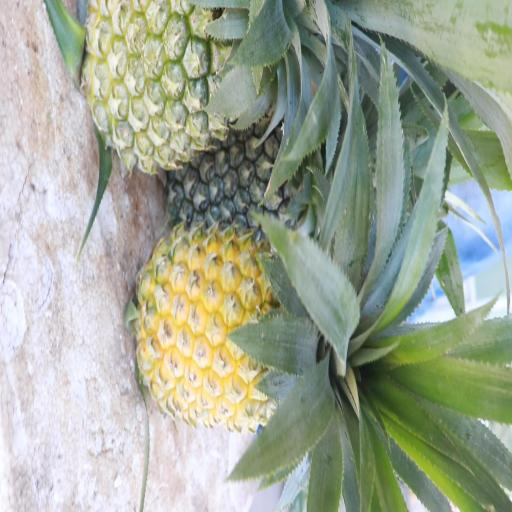------------------------------: (86, 0, 304, 173)
Pineapple - v8 v1: (137, 234, 356, 436)
